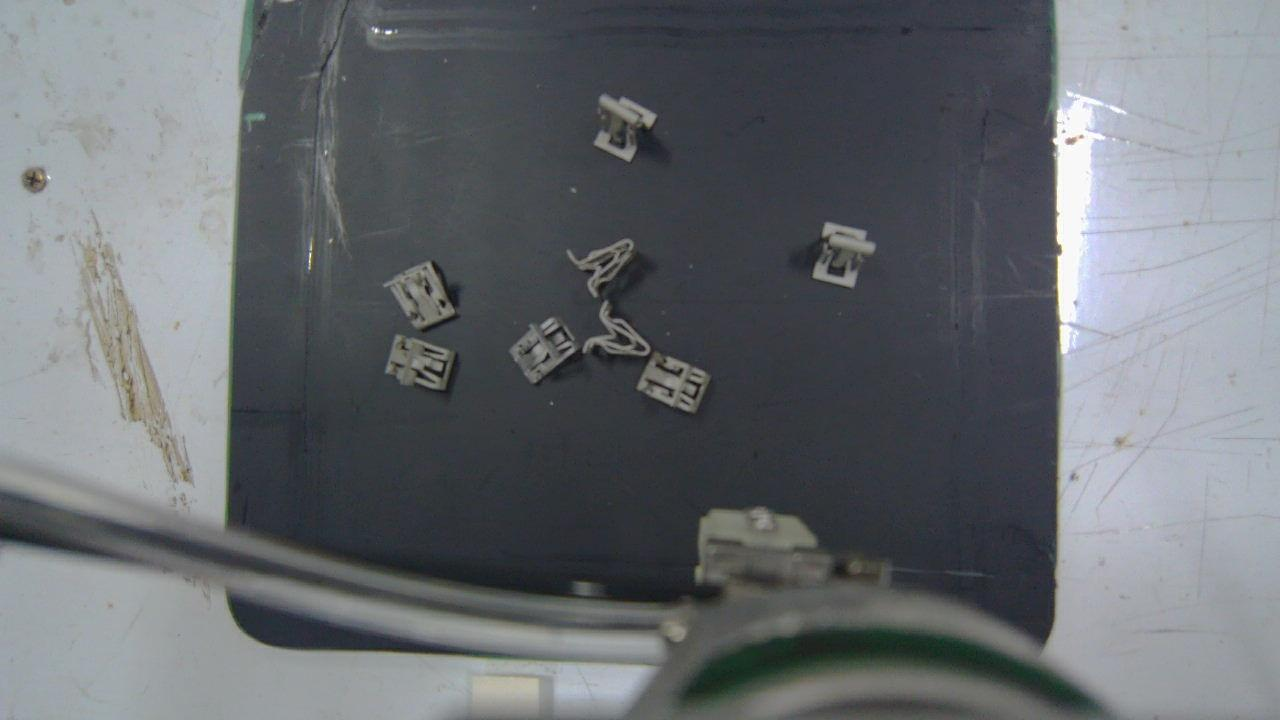ng: (386, 259, 457, 332), (634, 349, 713, 414), (509, 315, 579, 385), (384, 327, 457, 391), (592, 96, 657, 162), (568, 238, 636, 300), (813, 224, 877, 288), (584, 300, 650, 355)
